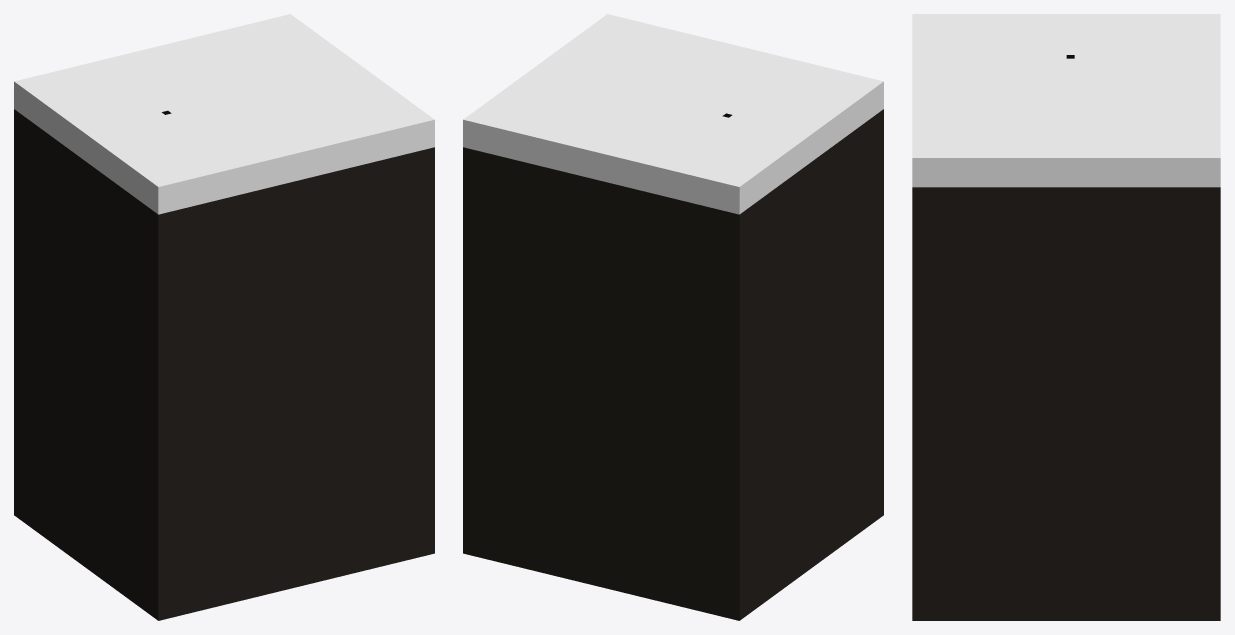
Rendered from evilnoob-4.obj.
3 views of the same model, side by side, from view 1: azimuth 30°, elevation 25°; view 2: azimuth 150°, elevation 25°; view 3: azimuth 270°, elevation 25° (orthographic). The views are drawn at different scales.
Bounding box in the file's own units: 4.2 × 6.3 × 3.8.
Materials: 1 (1 with a texture image).
